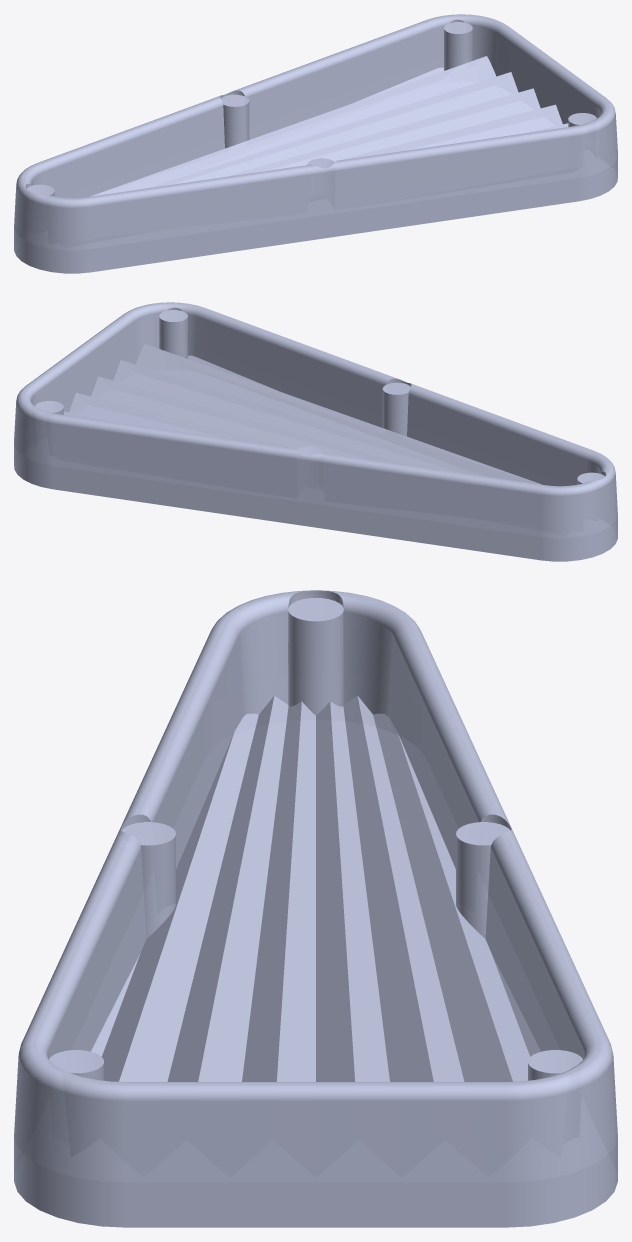
The model's file is Insert 2.0' Arrow, Starbust (PI-T2RT).fbx.
3 renders of one model, top to bottom at view 1: azimuth 30°, elevation 25°; view 2: azimuth 150°, elevation 25°; view 3: azimuth 270°, elevation 25°, orthographic. The views are drawn at different scales.
Visible parts, largest first — view 1: Insert 2.0' Arrow, Starbust (PI-T2RT); view 2: Insert 2.0' Arrow, Starbust (PI-T2RT); view 3: Insert 2.0' Arrow, Starbust (PI-T2RT).
Part boxes in pixels (box(x1,y1,x2,y2)): Insert 2.0' Arrow, Starbust (PI-T2RT): box(14, 14, 617, 273); Insert 2.0' Arrow, Starbust (PI-T2RT): box(14, 302, 617, 561); Insert 2.0' Arrow, Starbust (PI-T2RT): box(14, 590, 617, 1227).
Size of the model in its own units: 5.09 by 0.635 by 2.56.
